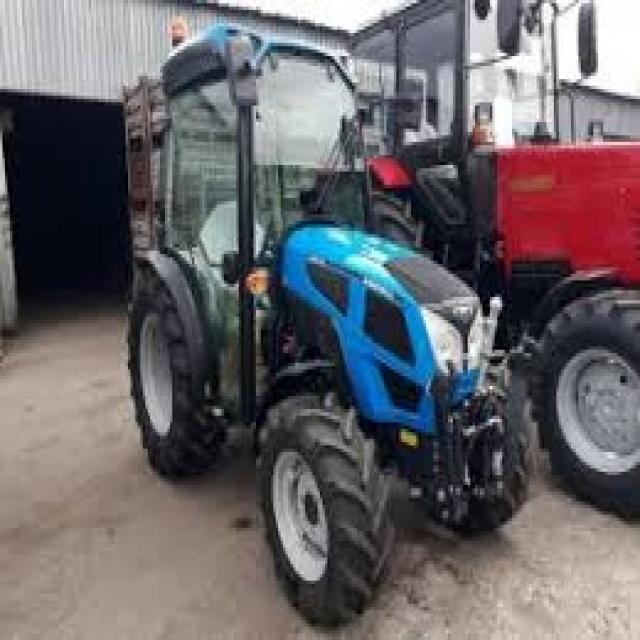Tratores - v5 YOLO V8L 2024-11-13: (128, 22, 528, 627), (345, 0, 640, 525)
